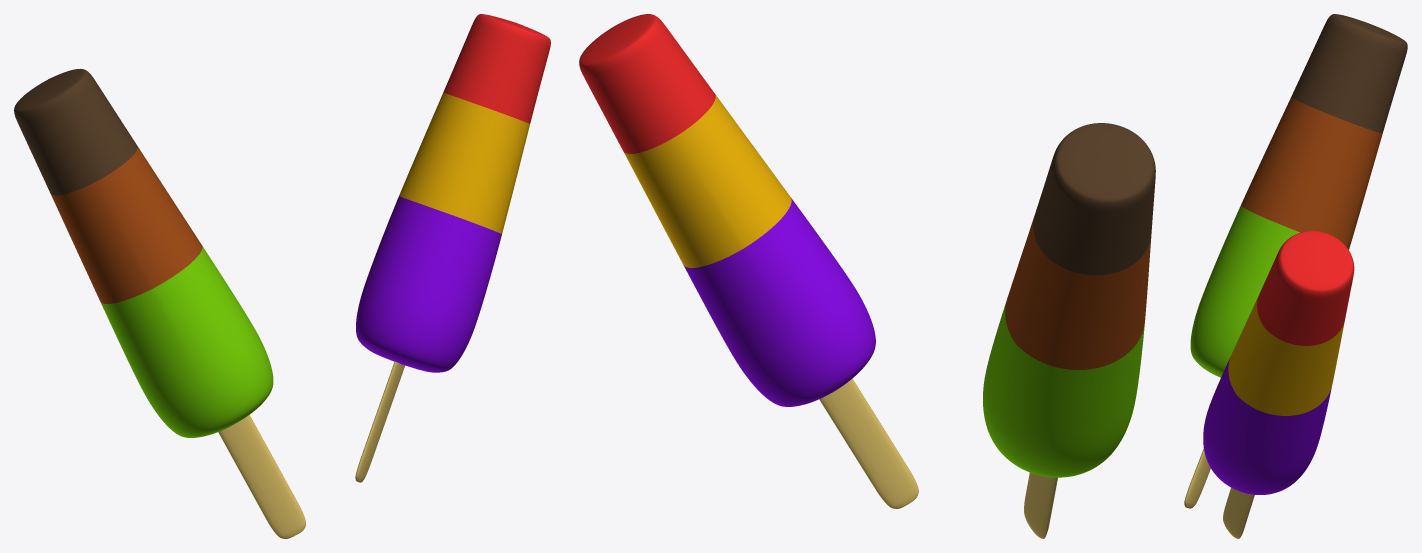
Rendered from realistic_3d_ice_cream_model_-_game_ready.glb.
3 views of the same model, side by side, from view 1: azimuth 30°, elevation 25°; view 2: azimuth 150°, elevation 25°; view 3: azimuth 270°, elevation 25° (orthographic). The views are drawn at different scales.
Parts seen in each view (by area): view 1: ice cream, ice cream.001, bottom handle, bottom handle.001; view 2: ice cream.001, ice cream, bottom handle.001, bottom handle; view 3: ice cream, ice cream.001, bottom handle.001, bottom handle.
Part boxes in pixels (x1,y1,x2,y2): ice cream: [14, 68, 273, 437]; ice cream.001: [356, 14, 550, 372]; bottom handle: [218, 415, 305, 538]; bottom handle.001: [355, 361, 405, 482]; ice cream.001: [579, 14, 875, 406]; ice cream: [983, 123, 1155, 477]; bottom handle.001: [819, 378, 918, 508]; bottom handle: [1024, 472, 1057, 538]; ice cream: [1190, 14, 1407, 377]; ice cream.001: [1203, 231, 1354, 494]; bottom handle.001: [1223, 487, 1254, 538]; bottom handle: [1184, 448, 1210, 508].
Size of the model in its own units: 9.35 by 7.8 by 3.69.
